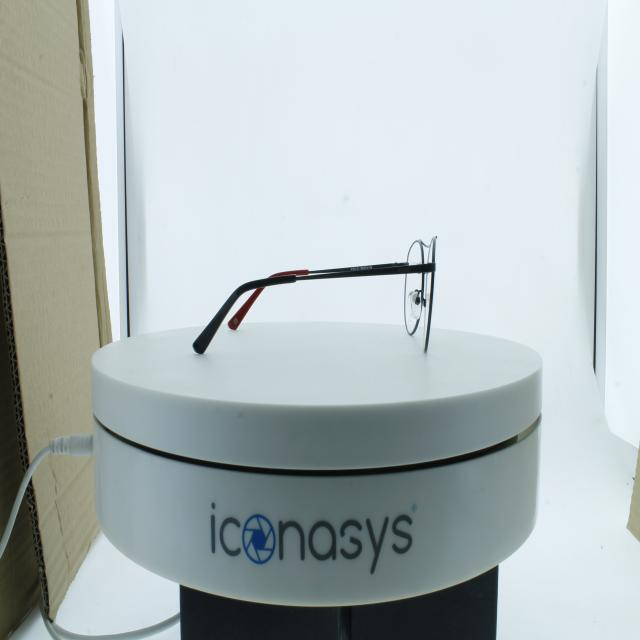Specs: (180, 222, 494, 384)
